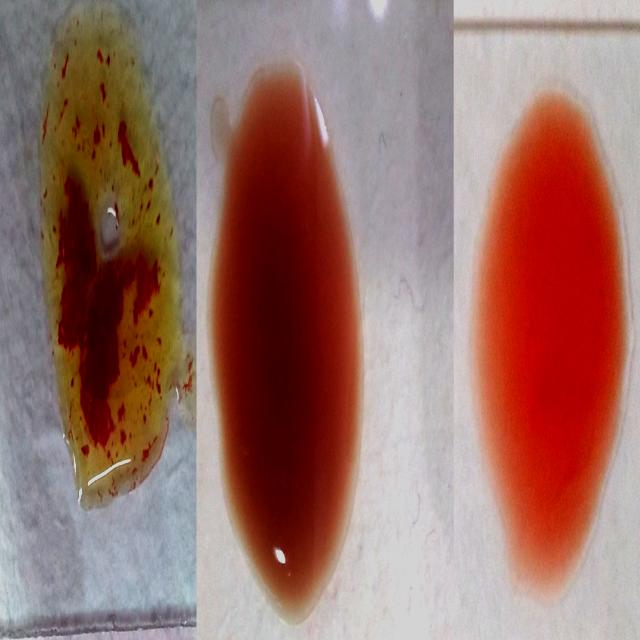B: (39, 31, 174, 528)
